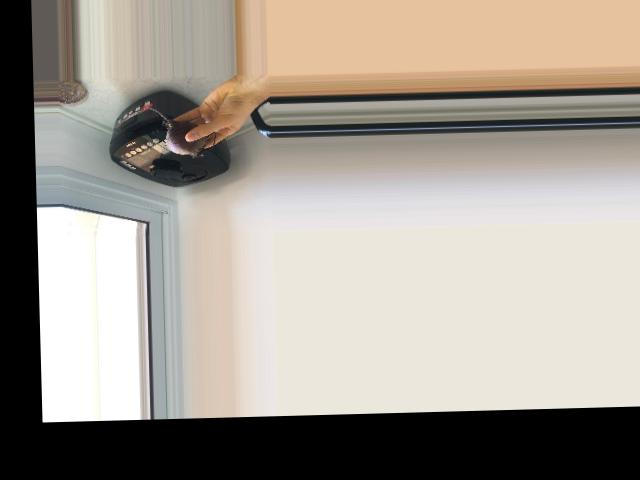beet: (149, 105, 215, 158)
